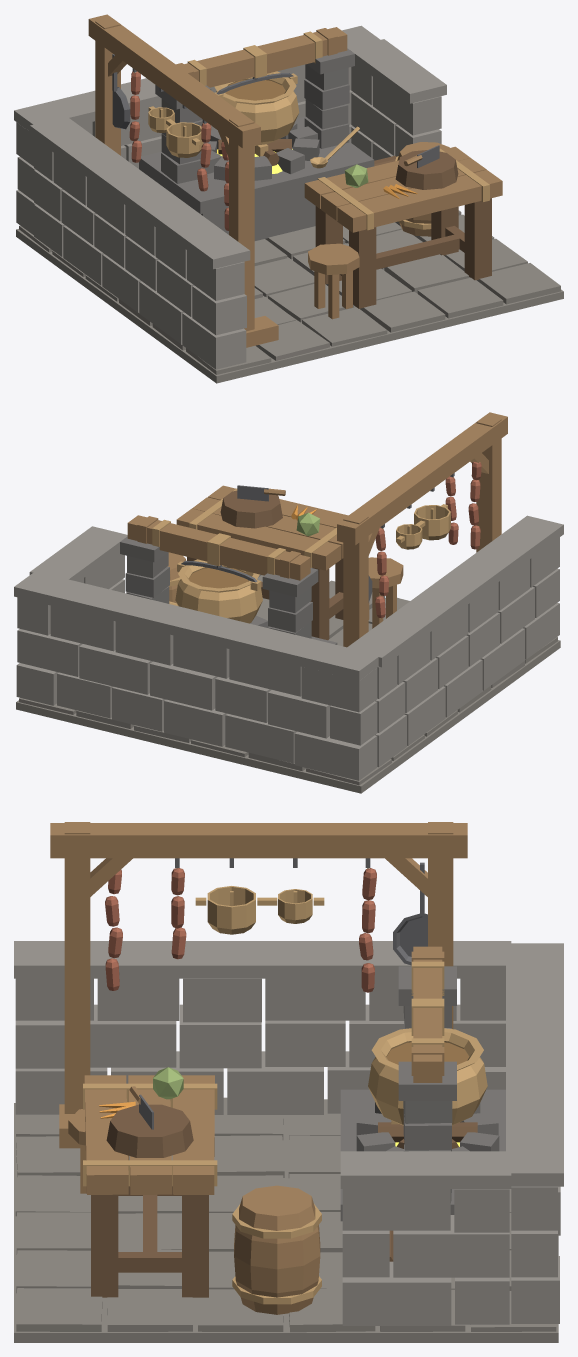
Rendered from kitchen.glb.
3 renders of one model, top to bottom at view 1: azimuth 30°, elevation 25°; view 2: azimuth 150°, elevation 25°; view 3: azimuth 270°, elevation 25°, orthographic. The views are drawn at different scales.
Visible parts, largest first — view 1: wall_left, floor, hearth, rack, wall_right, table_legs, wall_back, table_top, crossbar, cauldron, stool, chopping_block (+10 smaller); view 2: wall_back, wall_left, rack, floor, hearth, table_top, crossbar, wall_right, cauldron, table_legs, chopping_block, stool (+8 smaller); view 3: wall_left, floor, wall_right, rack, wall_back, hearth, table_top, barrel, table_legs, cauldron, crossbar, chopping_block (+13 smaller).
Boxes of the visible parts, box(x1,y1,x2,y2) form: wall_left: box(30, 116, 250, 369); floor: box(16, 210, 563, 383); hearth: box(139, 48, 374, 240); rack: box(88, 14, 278, 347); wall_right: box(349, 39, 446, 160); table_legs: box(315, 198, 491, 308); wall_back: box(14, 25, 382, 234); table_top: box(304, 146, 502, 232); crossbar: box(176, 27, 347, 87); cauldron: box(214, 71, 299, 156); stool: box(308, 243, 359, 319); chopping_block: box(395, 150, 458, 189); wall_back: box(14, 571, 379, 780); wall_left: box(347, 515, 563, 767); rack: box(337, 412, 507, 647); floor: box(16, 574, 560, 793); hearth: box(120, 536, 337, 644); table_top: box(176, 485, 348, 570); crossbar: box(127, 515, 310, 580); wall_right: box(29, 526, 127, 592); cauldron: box(175, 559, 262, 623); table_legs: box(187, 557, 343, 640); chopping_block: box(220, 490, 282, 528); stool: box(368, 557, 403, 628); wall_left: box(14, 941, 511, 1114); floor: box(14, 1097, 558, 1342); wall_right: box(340, 1151, 511, 1325); rack: box(50, 822, 467, 1148); wall_back: box(506, 943, 563, 1323); hearth: box(340, 966, 505, 1221); table_top: box(84, 1075, 214, 1194); barrel: box(234, 1185, 320, 1314); table_legs: box(91, 1186, 208, 1297); cauldron: box(368, 1028, 487, 1125); crossbar: box(411, 946, 444, 1082); chopping_block: box(106, 1104, 193, 1157).
Size of what is drawn, in the model's own units: 3.06 by 1.93 by 3.03.
